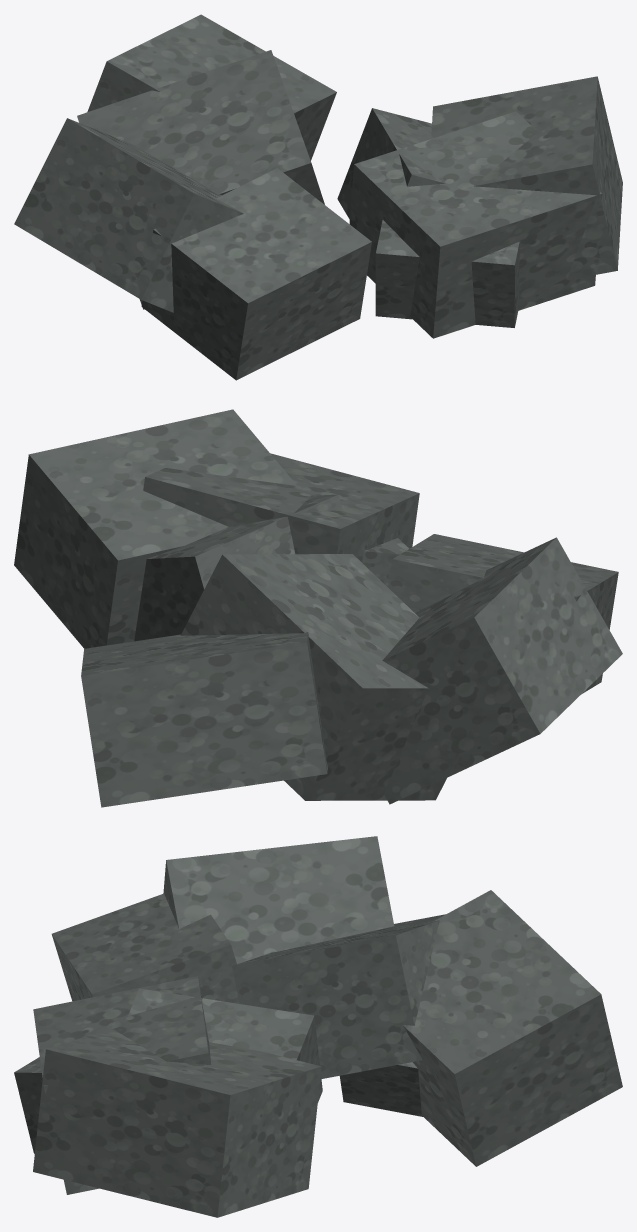
Rendered from pr-010_stone_pile__medium.obj.
3 renders of one model, top to bottom at view 1: azimuth 30°, elevation 25°; view 2: azimuth 150°, elevation 25°; view 3: azimuth 270°, elevation 25°, orthographic. The views are drawn at different scales.
Parts seen in each view (by area): view 1: pr-010_stone_pile__medium; view 2: pr-010_stone_pile__medium; view 3: pr-010_stone_pile__medium.
Boxes of the visible parts, bbox=[...] form: pr-010_stone_pile__medium: bbox=[14, 14, 622, 380]; pr-010_stone_pile__medium: bbox=[14, 409, 622, 807]; pr-010_stone_pile__medium: bbox=[14, 836, 622, 1217].
Bounding box in the file's own units: 1.26 × 0.4489 × 1.17.
1 material, 1 textured.
